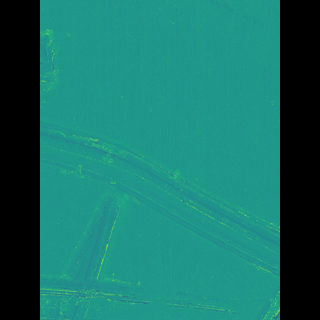Loch: (69, 117, 249, 276), (69, 189, 137, 319), (69, 274, 218, 317), (69, 20, 86, 107)
